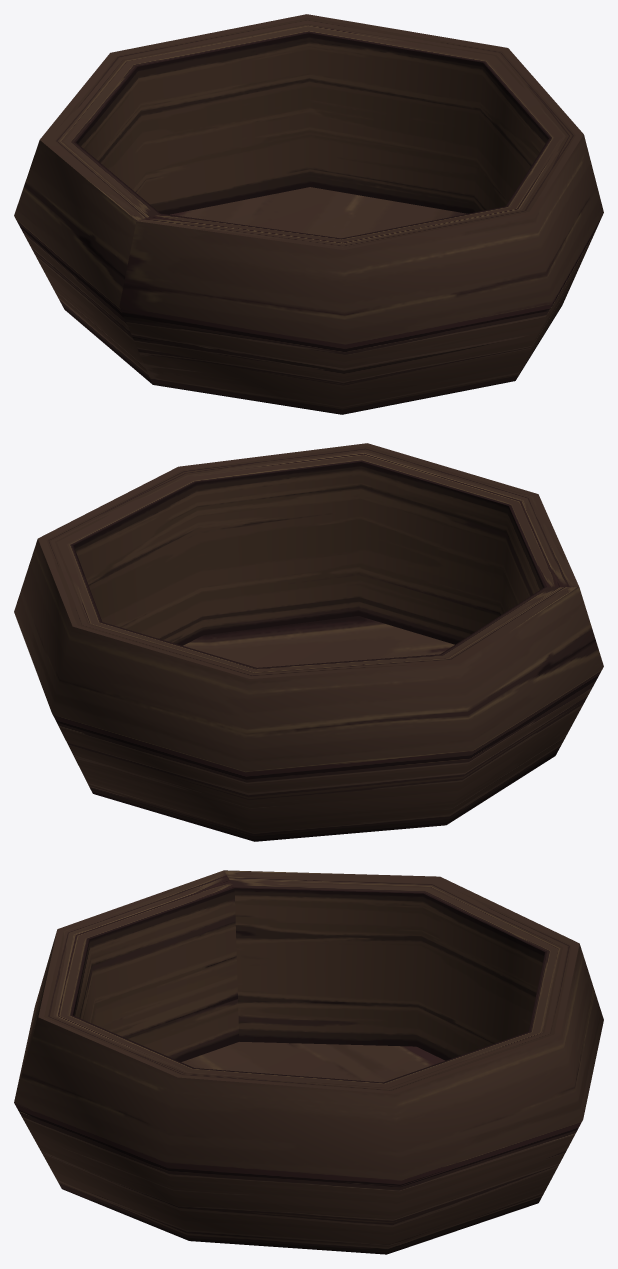
Rendered from SM_PROP_bowl_battle_02.fbx.
3 renders of one model, top to bottom at view 1: azimuth 30°, elevation 25°; view 2: azimuth 150°, elevation 25°; view 3: azimuth 270°, elevation 25°, orthographic.
Visible parts, largest first — view 1: SM_PROP_bowl_battle_02; view 2: SM_PROP_bowl_battle_02; view 3: SM_PROP_bowl_battle_02.
Part boxes in pixels (x1,y1,x2,y2): SM_PROP_bowl_battle_02: [14, 14, 603, 414]; SM_PROP_bowl_battle_02: [14, 443, 603, 841]; SM_PROP_bowl_battle_02: [14, 870, 603, 1254].
Bounding box in the file's own units: 21.03 × 7.26 × 21.6.
